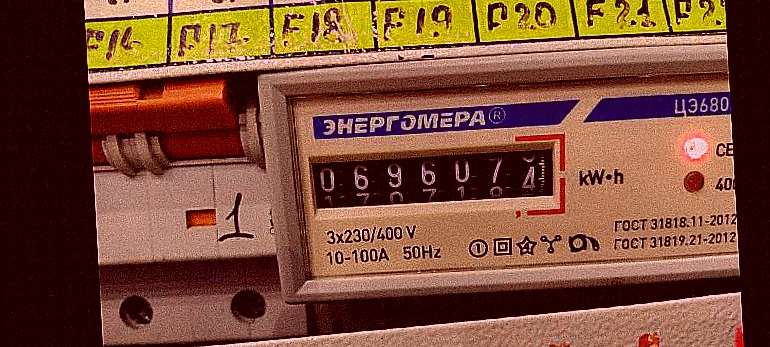0: (315, 164, 338, 193), (452, 153, 471, 183), (351, 162, 369, 189)
4: (518, 163, 537, 192)
6: (417, 155, 436, 186)
7: (485, 153, 504, 183)
9: (384, 159, 403, 188)
screen: (293, 128, 571, 227)
